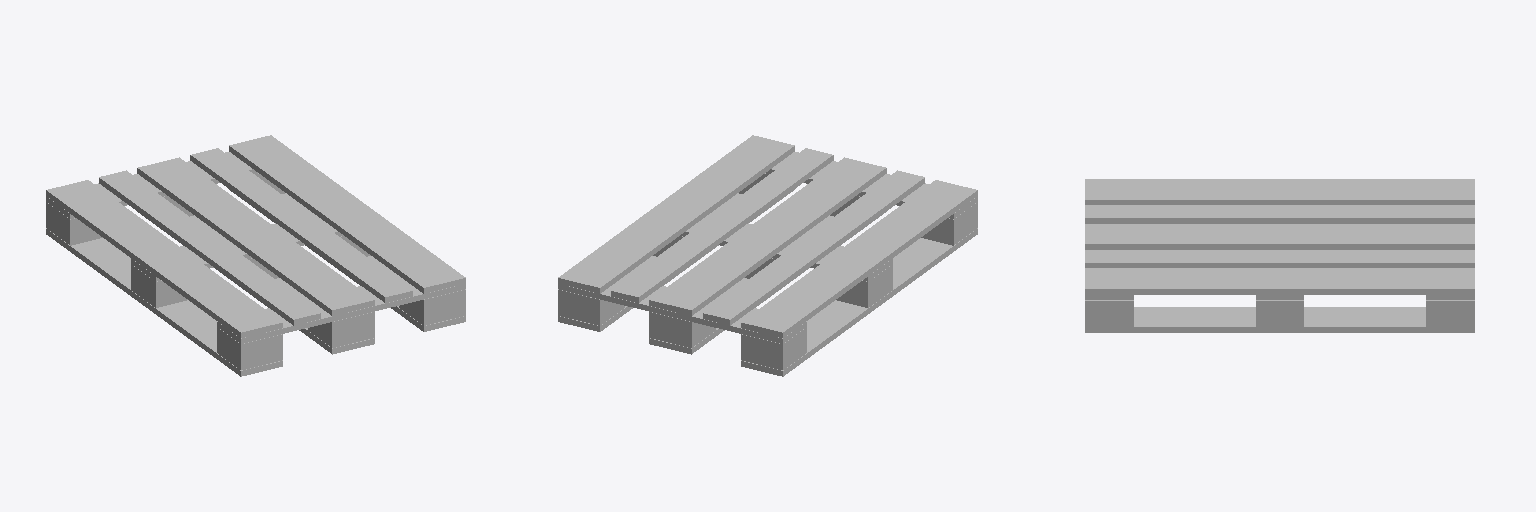
The model's file is pallet.obj.
3 renders of one model, left to right at view 1: azimuth 30°, elevation 25°; view 2: azimuth 150°, elevation 25°; view 3: azimuth 270°, elevation 25°, orthographic.
Visible parts, largest first — view 1: pallet; view 2: pallet; view 3: pallet.
Boxes of the visible parts, <box> form: pallet: <box>46,135,465,376</box>; pallet: <box>558,135,977,376</box>; pallet: <box>1085,179,1474,332</box>.
Bounding box in the file's own units: 0.8 × 0.15 × 1.2.